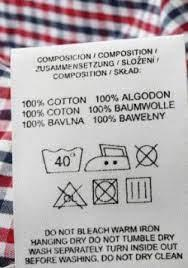40C: (40, 145, 85, 175)
DN_dry_clean: (133, 142, 161, 169)
DN_tumble_dry: (89, 177, 119, 208)
drip_dry: (124, 175, 153, 208)
iron_medium: (84, 144, 131, 174)
non_chlorine_bleach: (52, 182, 87, 211)
